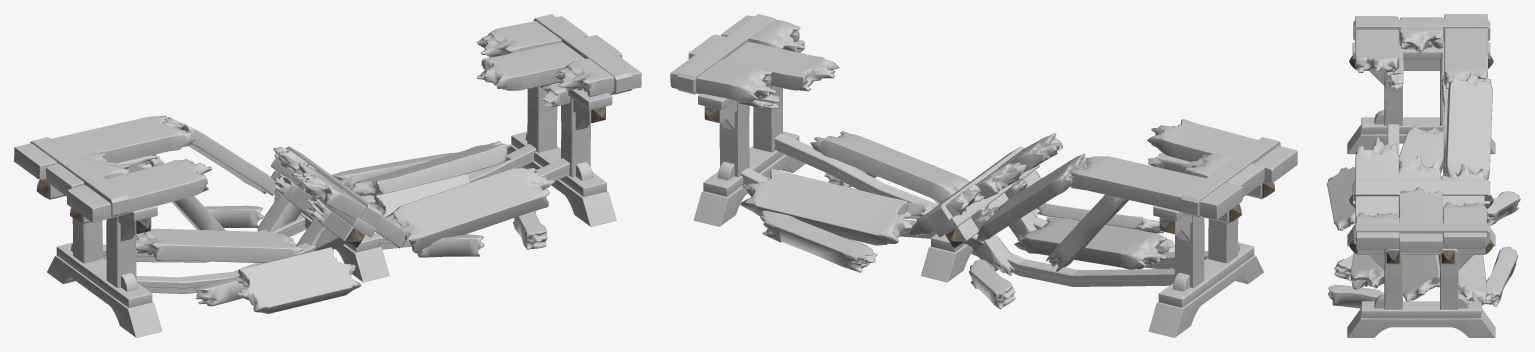
The picture shows the model from 3 angles, left to right: view 1: azimuth 30°, elevation 25°; view 2: azimuth 150°, elevation 25°; view 3: azimuth 270°, elevation 25°; orthographic projection. The views are drawn at different scales.
Parts seen in each view (by area): view 1: SM_DR_Table_B_03_01_LOD0; view 2: SM_DR_Table_B_03_01_LOD0; view 3: SM_DR_Table_B_03_01_LOD0.
Part boxes in pixels (x1=…): SM_DR_Table_B_03_01_LOD0: x1=14, y1=14, x2=641, y2=337; SM_DR_Table_B_03_01_LOD0: x1=670, y1=14, x2=1297, y2=337; SM_DR_Table_B_03_01_LOD0: x1=1326, y1=14, x2=1520, y2=337.
Size of the model in its own units: 4.68 by 1.15 by 1.7.
